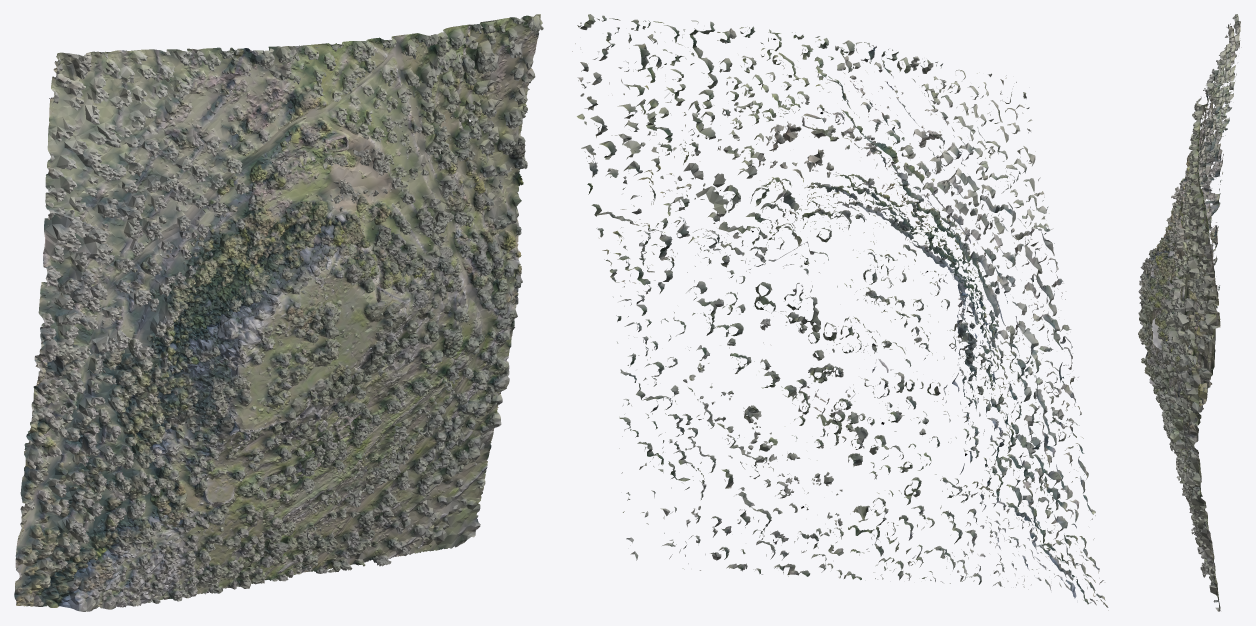
File: model11_acropolis.glb
3 views of the same model, side by side, from view 1: azimuth 30°, elevation 25°; view 2: azimuth 150°, elevation 25°; view 3: azimuth 270°, elevation 25° (orthographic). The views are drawn at different scales.
Bounding box in the file's own units: 235 × 247 × 51.64.
